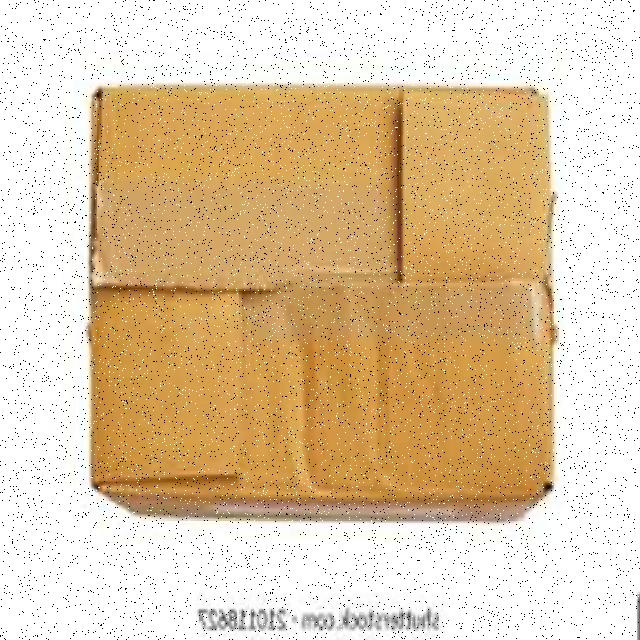normal: (83, 78, 565, 530)
